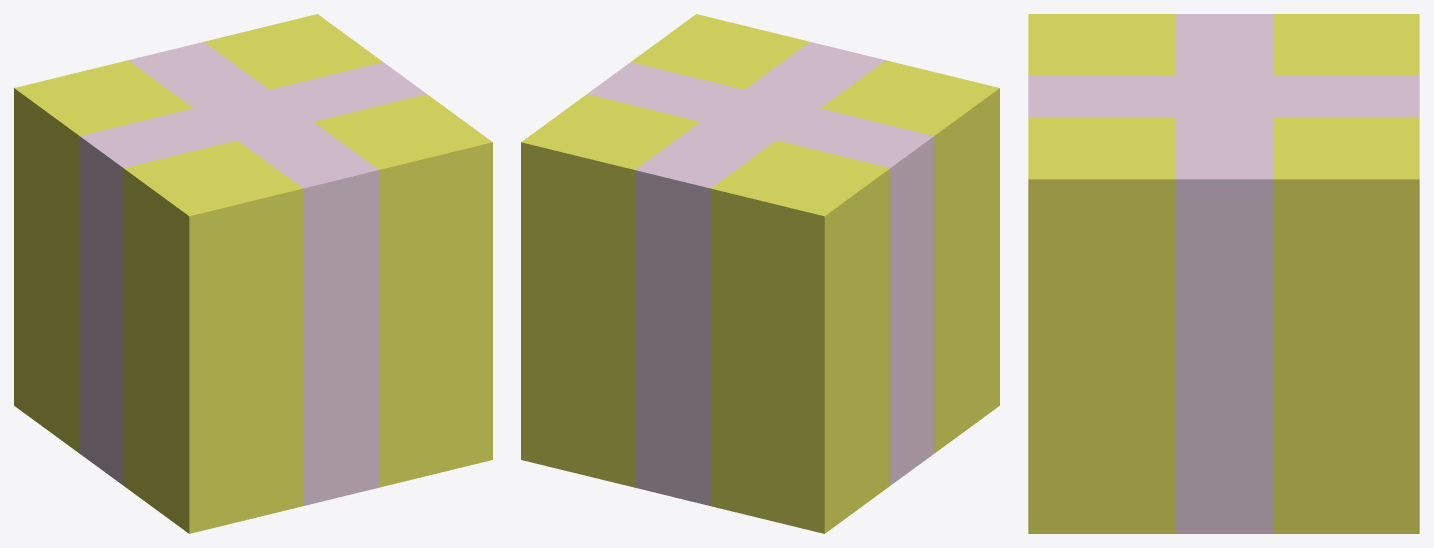
The model's file is boksici.fbx.
The picture shows the model from 3 angles, left to right: view 1: azimuth 30°, elevation 25°; view 2: azimuth 150°, elevation 25°; view 3: azimuth 270°, elevation 25°; orthographic projection. The views are drawn at different scales.
Visible parts, largest first — view 1: Cube, Cube.001; view 2: Cube, Cube.001; view 3: Cube, Cube.001.
Part boxes in pixels (<box>): Cube: <box>14,14,492,533</box>; Cube.001: <box>79,42,426,505</box>; Cube: <box>521,14,999,533</box>; Cube.001: <box>587,42,934,505</box>; Cube: <box>1028,14,1419,533</box>; Cube.001: <box>1028,14,1419,533</box>.
Size of the model in its own units: 200 by 200 by 200.
